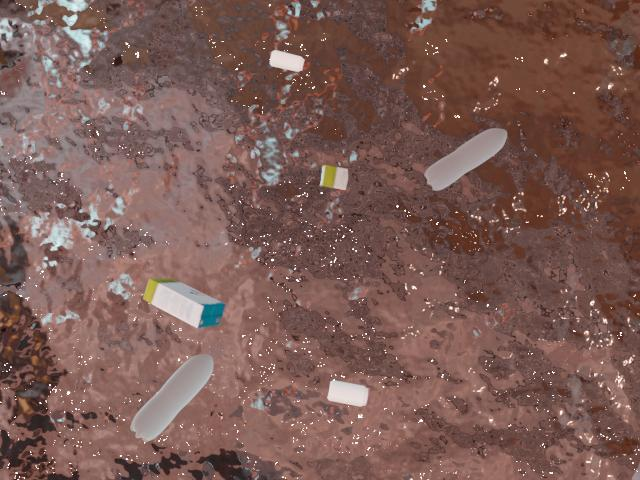Metal: (322, 370, 373, 415), (269, 41, 311, 80)
Plastic: (122, 345, 220, 452), (410, 116, 516, 202)
Trash: (131, 271, 230, 331), (312, 159, 357, 199)
